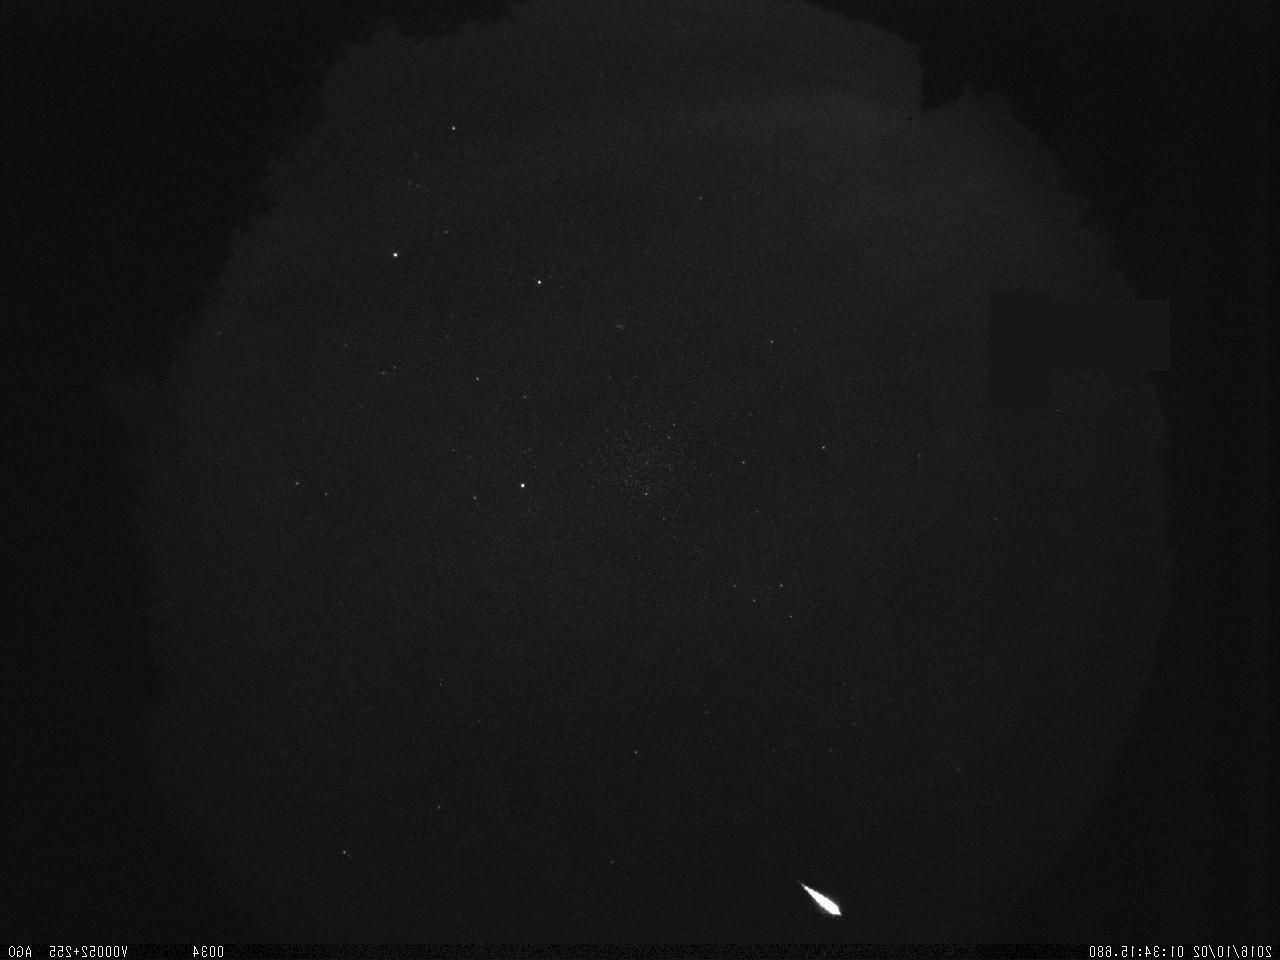meteor: (779, 873, 857, 928)
